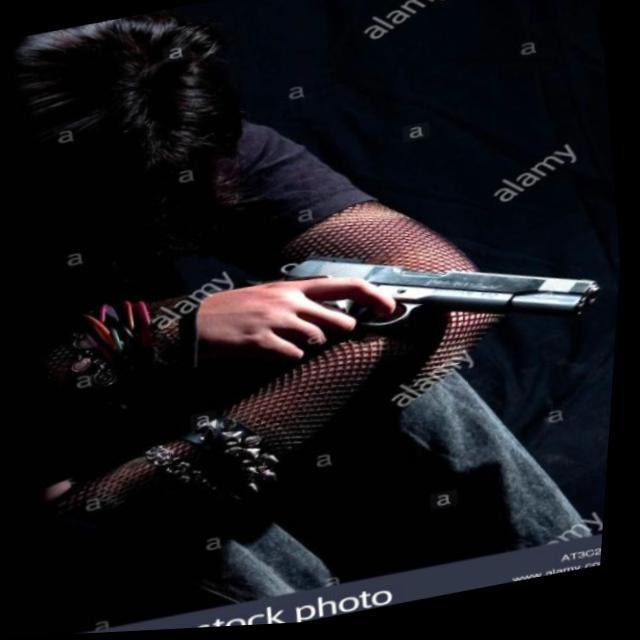weapon: (268, 204, 616, 380)
